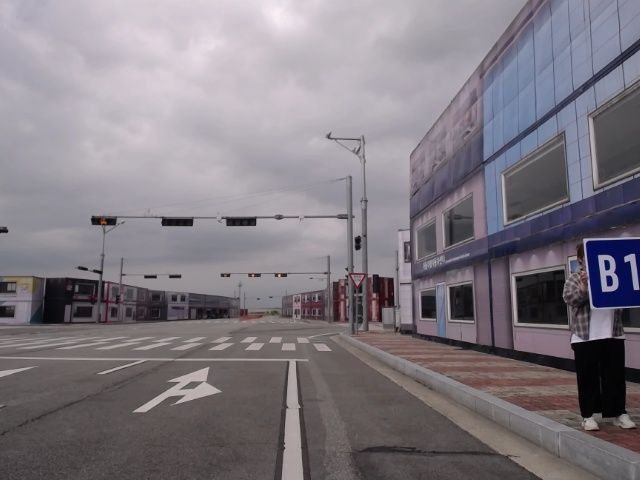delivery_b1: (585, 238, 639, 309)
orange_4: (248, 273, 261, 277), (275, 273, 287, 277)
